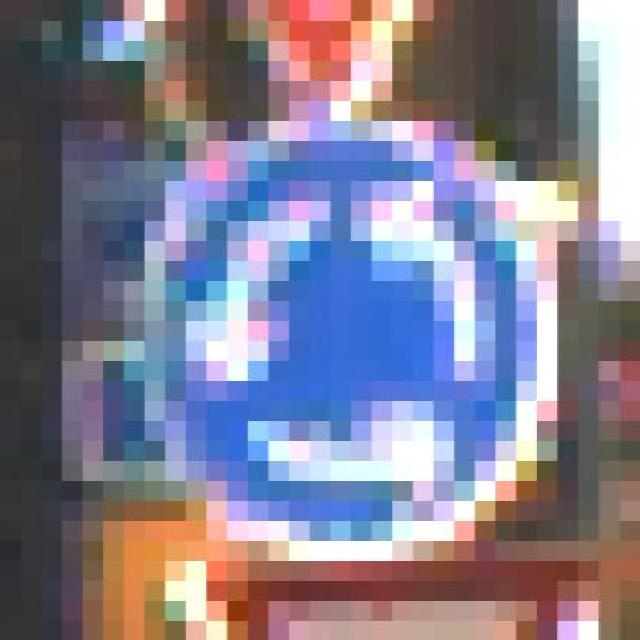Round-About: (103, 100, 599, 580)
